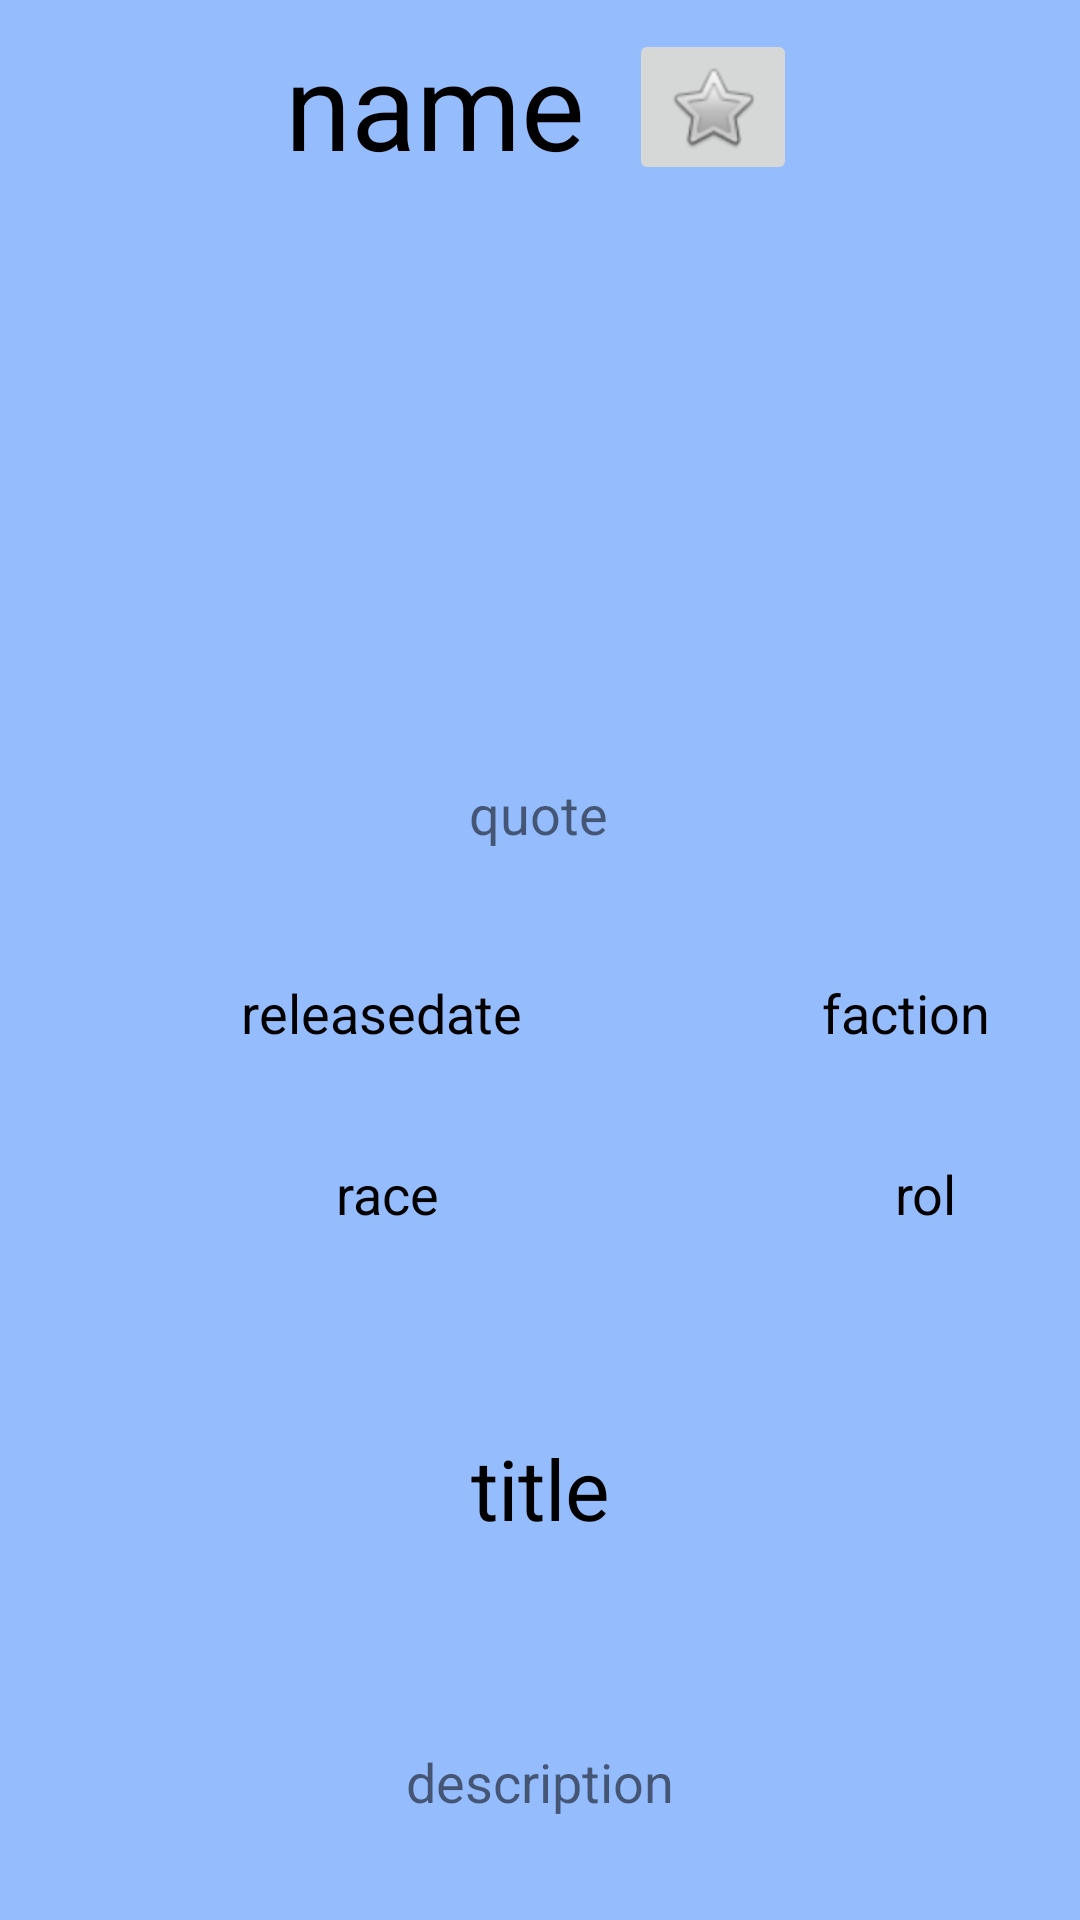

Icon click points for this 1080 x 1920 phone screenshot, format point (x, y):
star: point (713, 107)
